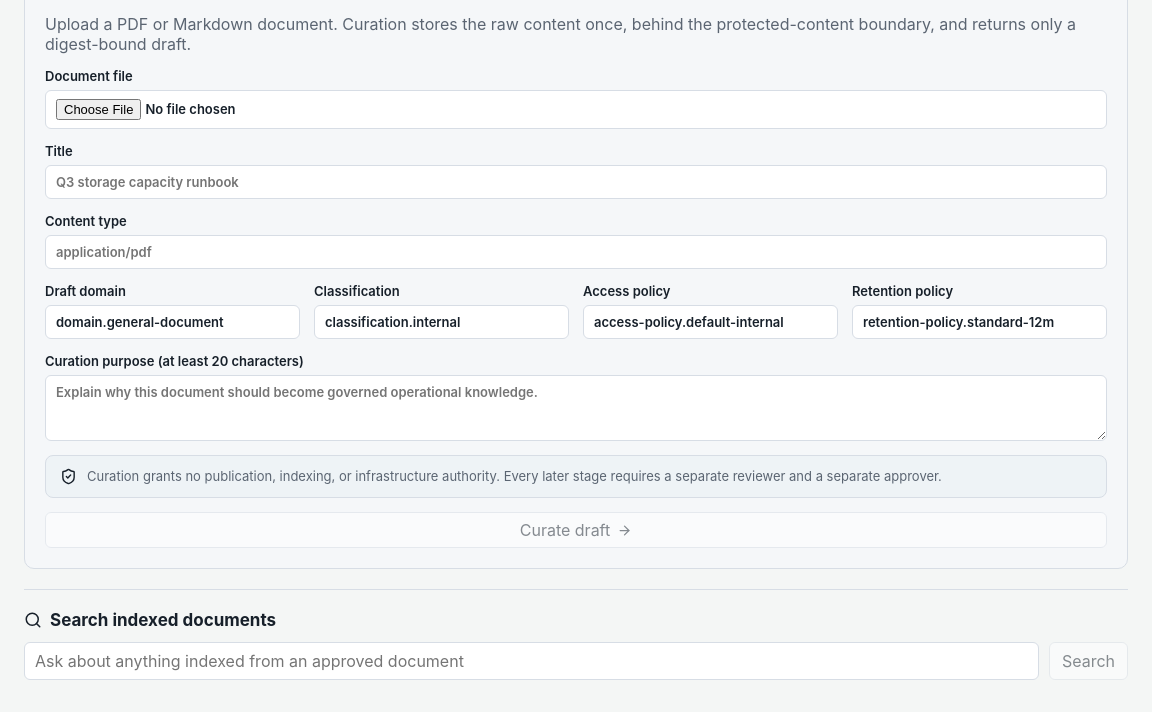
Scenario: DocumentKnowledgeWorkspace › searches indexed documents independently of the pipeline stage
(page scrolled)
Type "What was the pool utilization?" into the field with placeholder "Ask about anything indexed from an approved document". click: (531, 661)
box: x1=24 y1=642 x2=1039 y2=680
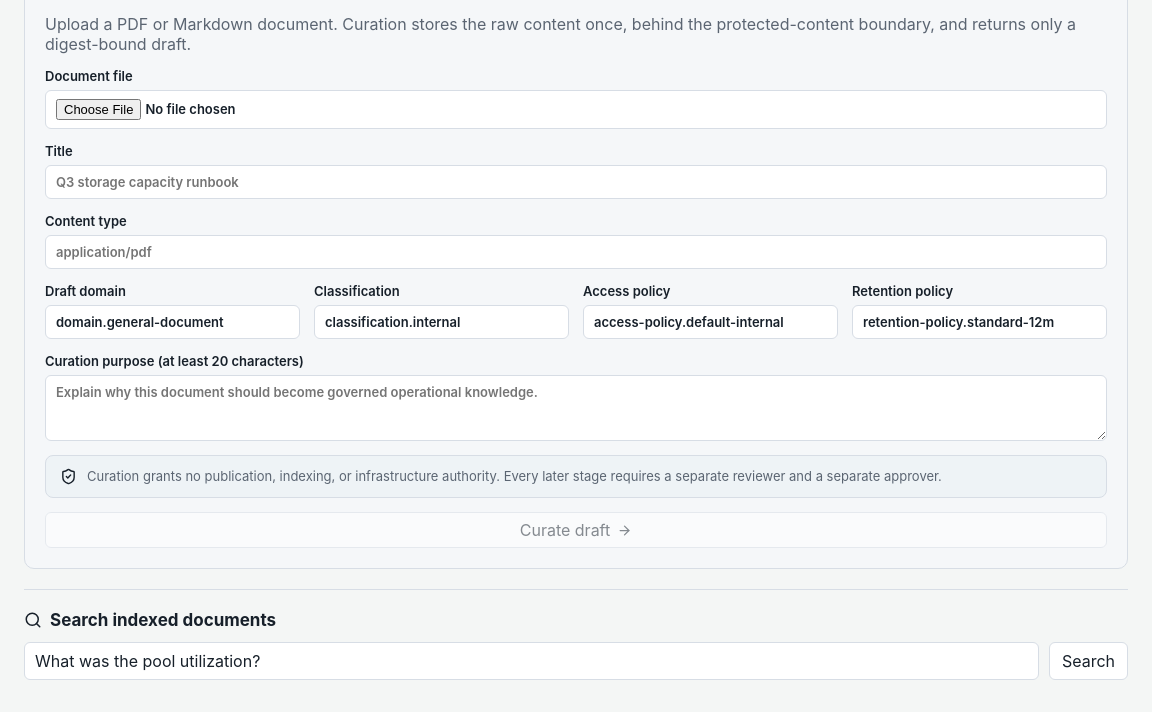
Click the button "Search". click: (1088, 661)
box: x1=1049 y1=642 x2=1128 y2=680
(page scrolled)
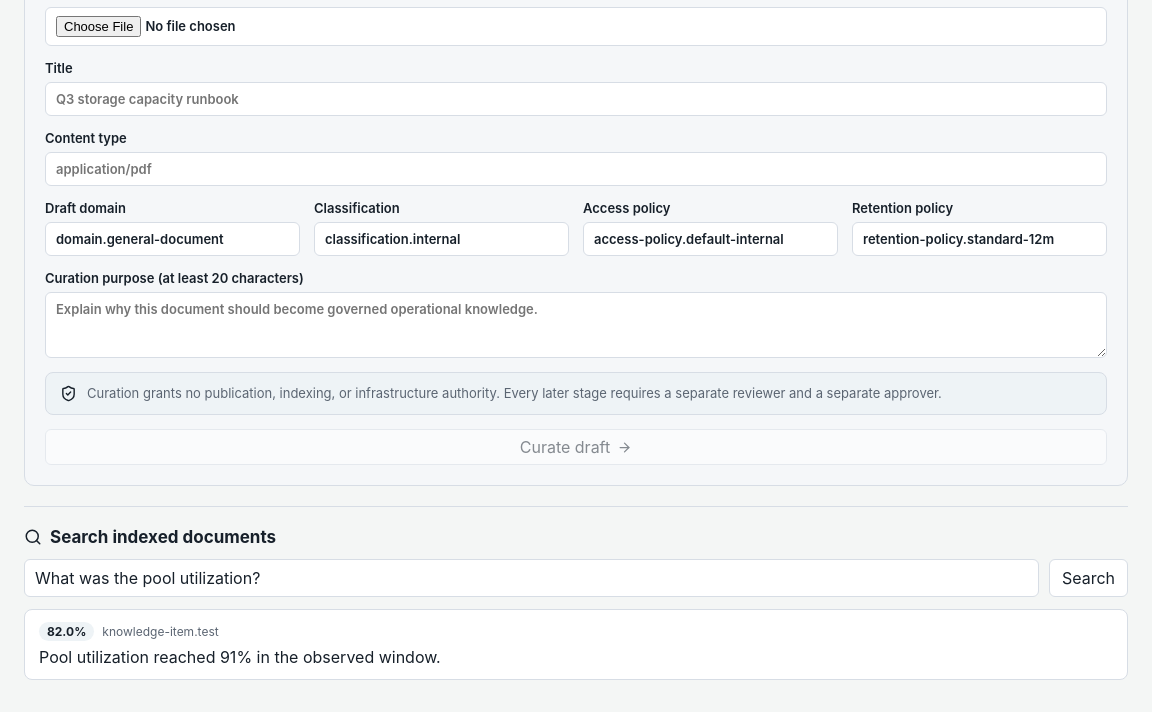
Expected: the text "Pool utilization reached 91% in the observed window." is shown, x1=39 y1=647 x2=441 y2=667
Expected: the text "82.0%" is shown, x1=39 y1=622 x2=94 y2=641
